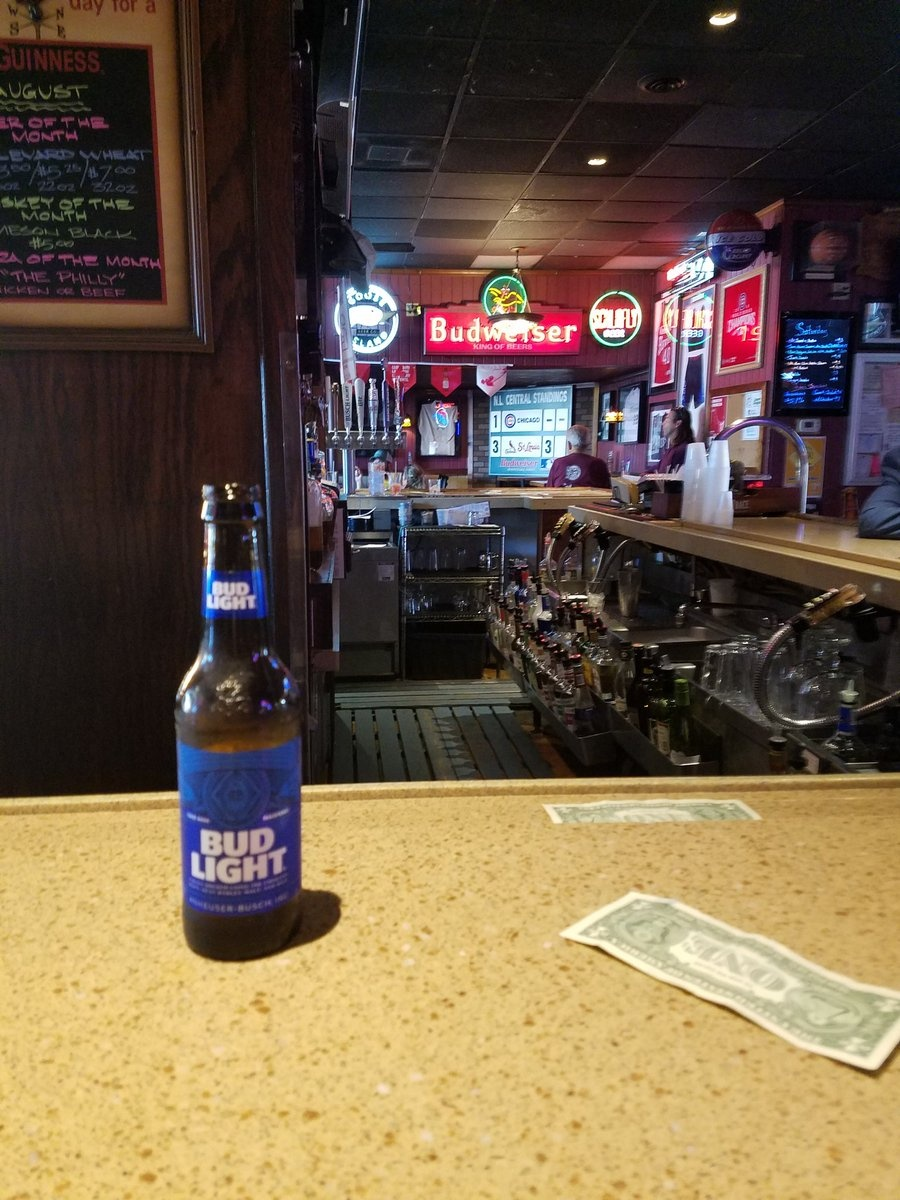beerBottle: (180, 481, 309, 962)
